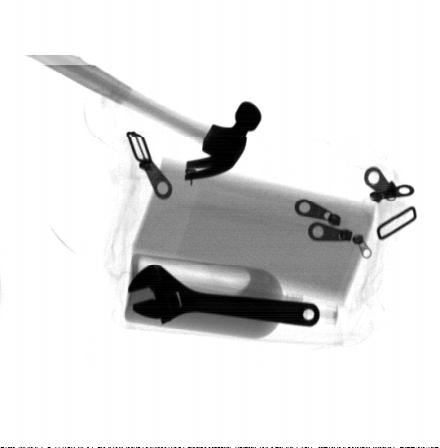Hammer: (29, 55, 262, 181)
Wrench: (127, 264, 321, 327)
